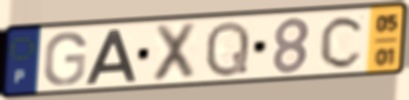8: (272, 15, 312, 75)
A: (83, 27, 139, 86)
C: (317, 13, 368, 71)
G: (41, 29, 89, 88)
Q: (203, 19, 253, 80)
X: (149, 20, 200, 84)
